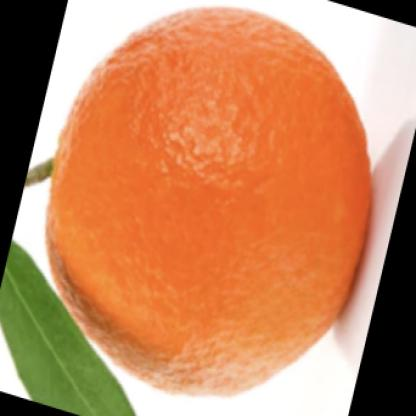fresh: (42, 6, 376, 395)
